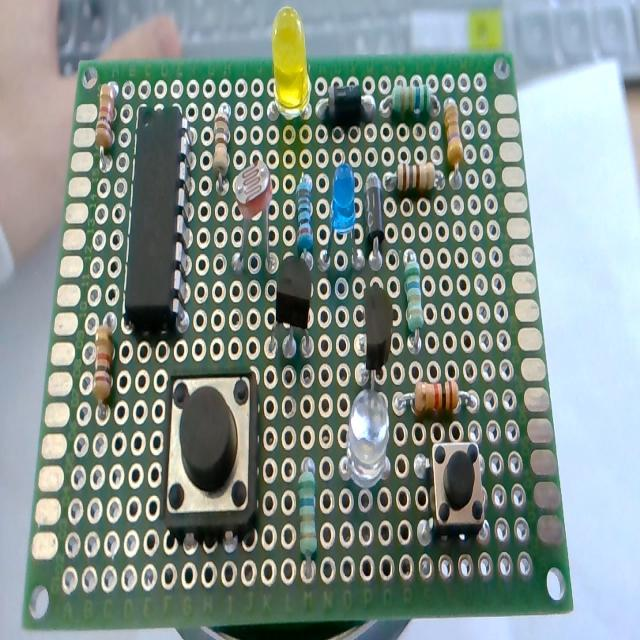IC: (119, 99, 197, 338)
cds: (230, 151, 276, 294)
diode: (311, 76, 383, 132), (359, 167, 391, 269)
led: (258, 4, 318, 128), (339, 388, 398, 492), (322, 159, 360, 273)
resistor: (292, 455, 326, 584), (396, 370, 478, 420), (89, 74, 127, 173), (397, 248, 427, 355), (290, 172, 320, 276), (440, 92, 470, 188), (208, 95, 234, 202), (87, 320, 113, 415), (379, 85, 441, 123), (382, 163, 443, 196)
switch: (157, 367, 263, 540), (424, 430, 493, 543)
transistor: (264, 255, 318, 371), (356, 284, 394, 398)
